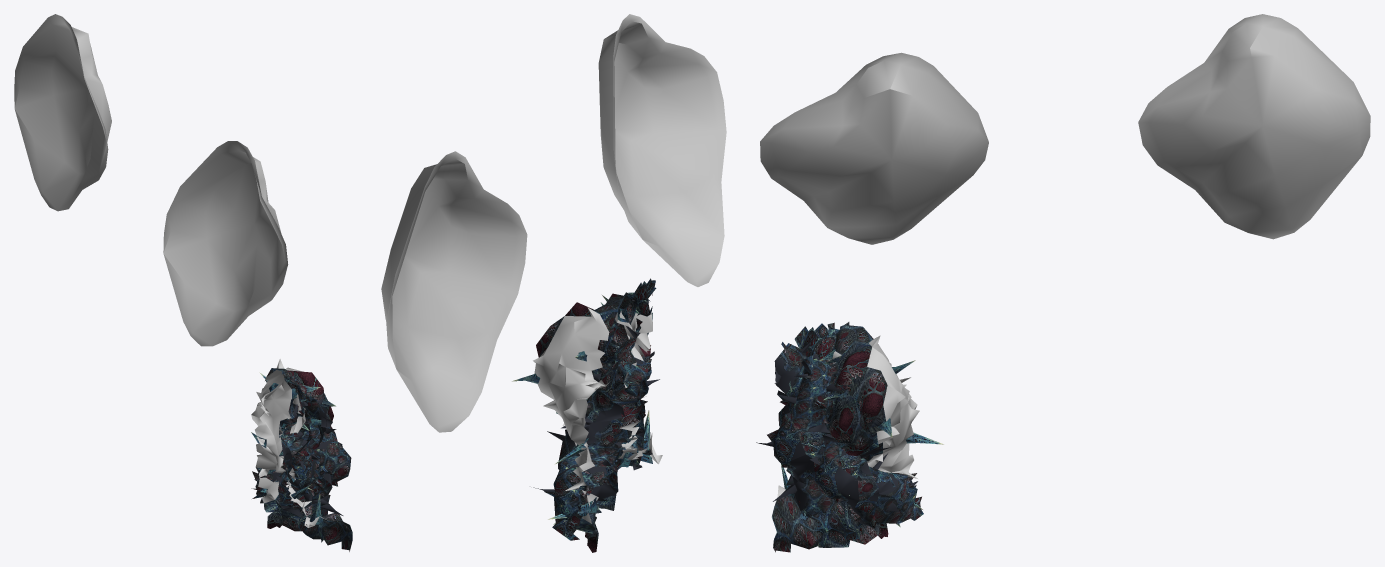
File: 02_Makaijyua_03.fbx
The picture shows the model from 3 angles, left to right: view 1: azimuth 30°, elevation 25°; view 2: azimuth 150°, elevation 25°; view 3: azimuth 270°, elevation 25°; orthographic projection. The views are drawn at different scales.
Parts seen in each view (by area): view 1: LODGroup_3_MainMesh_1_SubMesh_3, LODGroup_3_MainMesh_1_SubMesh_1, LODGroup_3_MainMesh_1_SubMesh_2; view 2: LODGroup_3_MainMesh_1_SubMesh_3, LODGroup_3_MainMesh_1_SubMesh_1, LODGroup_3_MainMesh_1_SubMesh_2; view 3: LODGroup_3_MainMesh_1_SubMesh_3, LODGroup_3_MainMesh_1_SubMesh_1, LODGroup_3_MainMesh_1_SubMesh_2.
Boxes of the visible parts, x1=… form: LODGroup_3_MainMesh_1_SubMesh_3: x1=14, y1=14, x2=327, y2=527; LODGroup_3_MainMesh_1_SubMesh_1: x1=251, y1=385, x2=351, y2=520; LODGroup_3_MainMesh_1_SubMesh_2: x1=251, y1=368, x2=352, y2=551; LODGroup_3_MainMesh_1_SubMesh_3: x1=381, y1=14, x2=726, y2=523; LODGroup_3_MainMesh_1_SubMesh_1: x1=533, y1=280, x2=659, y2=540; LODGroup_3_MainMesh_1_SubMesh_2: x1=512, y1=278, x2=653, y2=552; LODGroup_3_MainMesh_1_SubMesh_3: x1=760, y1=14, x2=1370, y2=496; LODGroup_3_MainMesh_1_SubMesh_1: x1=756, y1=337, x2=923, y2=528; LODGroup_3_MainMesh_1_SubMesh_2: x1=772, y1=322, x2=943, y2=552.
Size of the model in its own units: 526 by 1544 by 1747.
